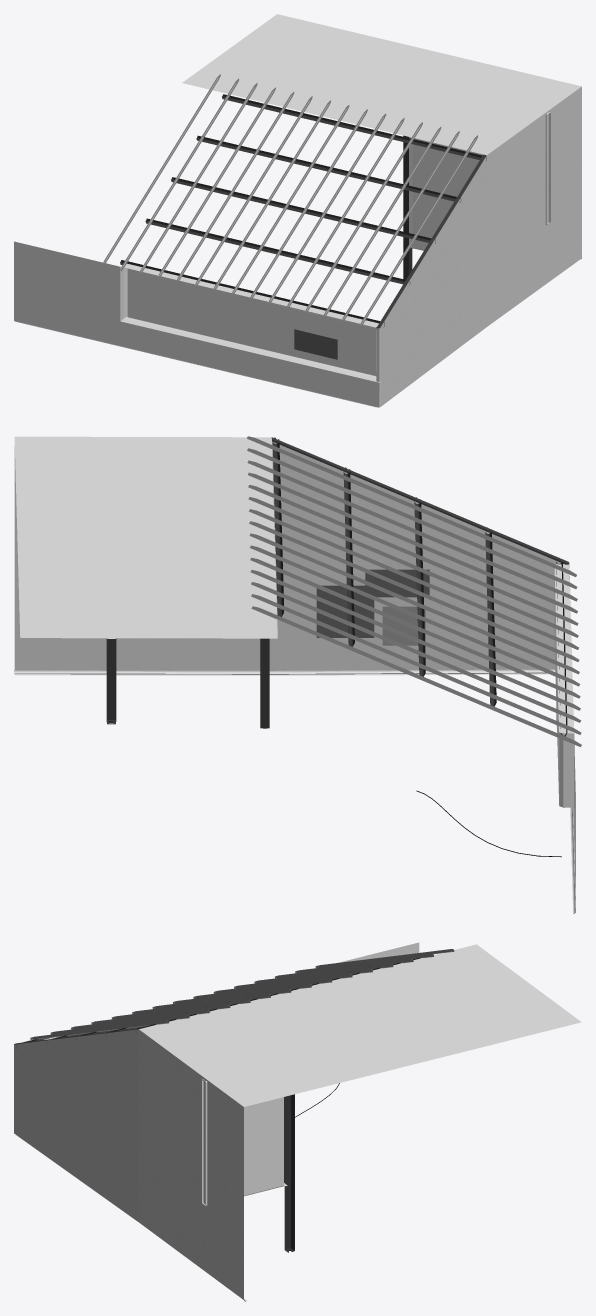
Rendered from StudioScene.glb.
The picture shows the model from 3 angles, top to bottom: view 1: azimuth 30°, elevation 25°; view 2: azimuth 150°, elevation 25°; view 3: azimuth 270°, elevation 25°; orthographic projection. The views are drawn at different scales.
Parts seen in each view (by area): view 1: Empty.001, Plane.011; view 2: Empty.001, Plane.009, Plane.008, Plane.010; view 3: Empty.001.
Part boxes in pixels (x1=…): Empty.001: x1=14, y1=14, x2=581, y2=407; Plane.011: x1=294, y1=329, x2=337, y2=359; Empty.001: x1=14, y1=436, x2=581, y2=913; Plane.009: x1=316, y1=585, x2=374, y2=637; Plane.008: x1=365, y1=569, x2=429, y2=597; Plane.010: x1=382, y1=606, x2=425, y2=645; Empty.001: x1=14, y1=942, x2=581, y2=1301.
Size of the model in its own units: 67.19 by 23.95 by 59.99.
Materials: 11 (1 with a texture image).
